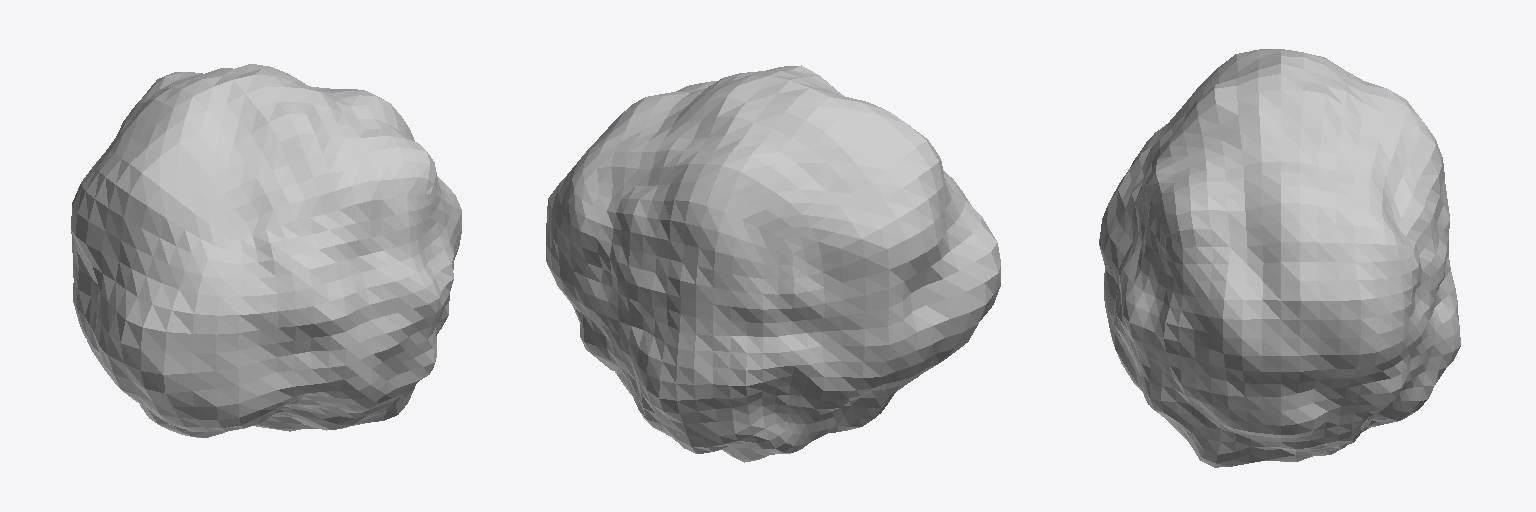
The model's file is asteroid4.obj.
3 renders of one model, left to right at view 1: azimuth 30°, elevation 25°; view 2: azimuth 150°, elevation 25°; view 3: azimuth 270°, elevation 25°, orthographic.
Visible parts, largest first — view 1: Cube_Cube.001; view 2: Cube_Cube.001; view 3: Cube_Cube.001.
Boxes of the visible parts, x1,y1,x2,y2 form: Cube_Cube.001: [71, 64, 461, 437]; Cube_Cube.001: [546, 65, 1000, 462]; Cube_Cube.001: [1099, 49, 1460, 467].
Bounding box in the file's own units: 12.05 × 11.4 × 10.31.